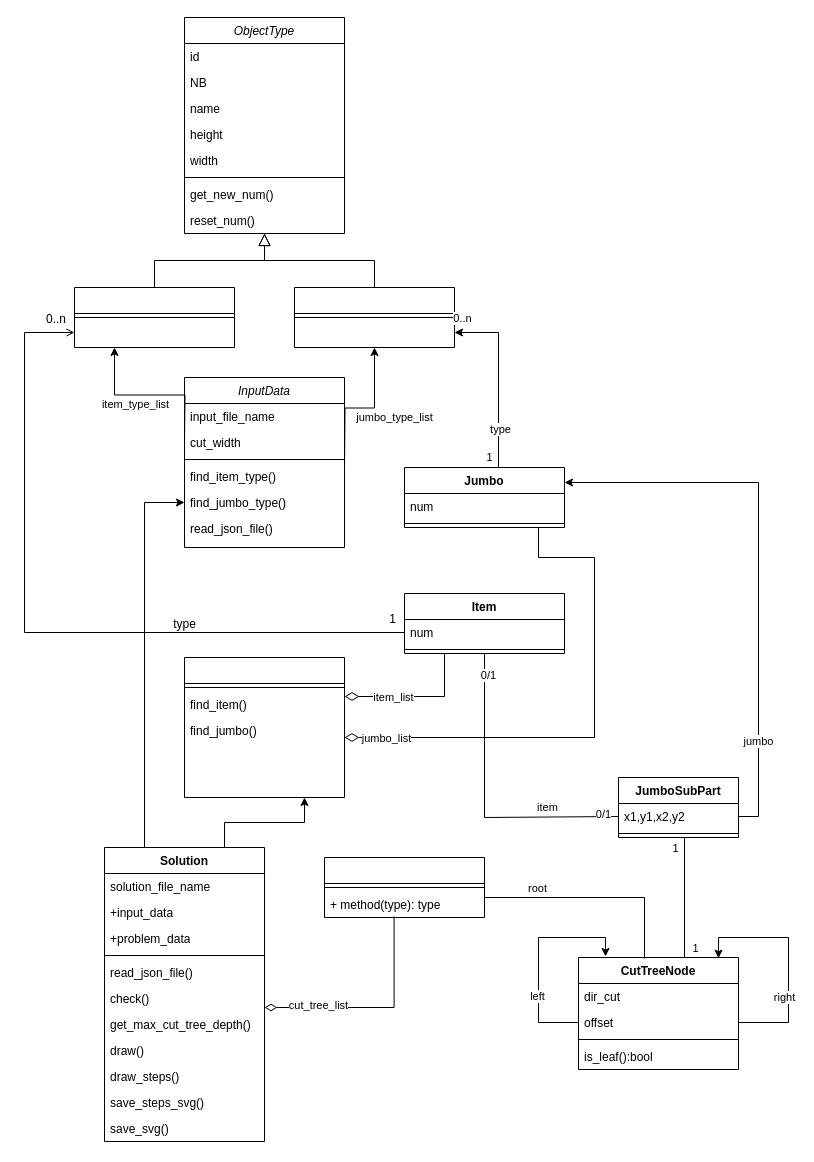
This 814x1162 diagram has some shape labels left out. Each missing label, with the box of its shape:
CutTree: (324, 856, 484, 918)
ItemType: (74, 286, 234, 348)
JumboType: (294, 286, 454, 348)
ProblemData: (184, 656, 344, 798)
